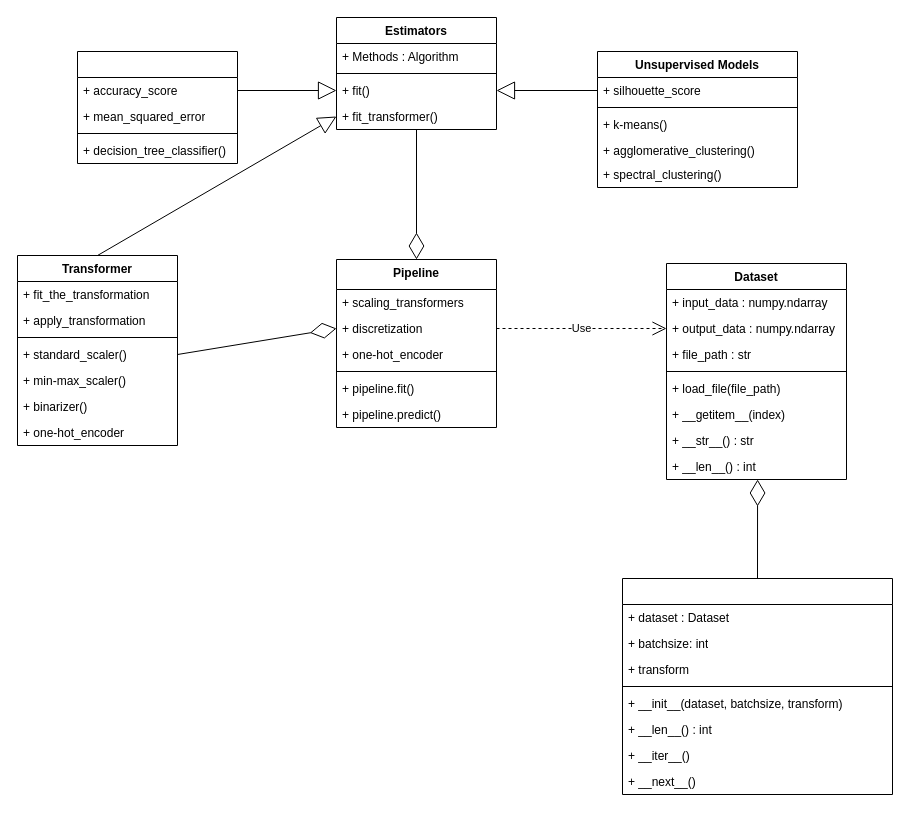
This 910x815 diagram has some shape labels left out. The box of each missing label's shape, as (x1, y1, x2, y2) in pixels:
DataLoader: (622, 578, 892, 794)
Supervised Models: (76, 50, 238, 164)
